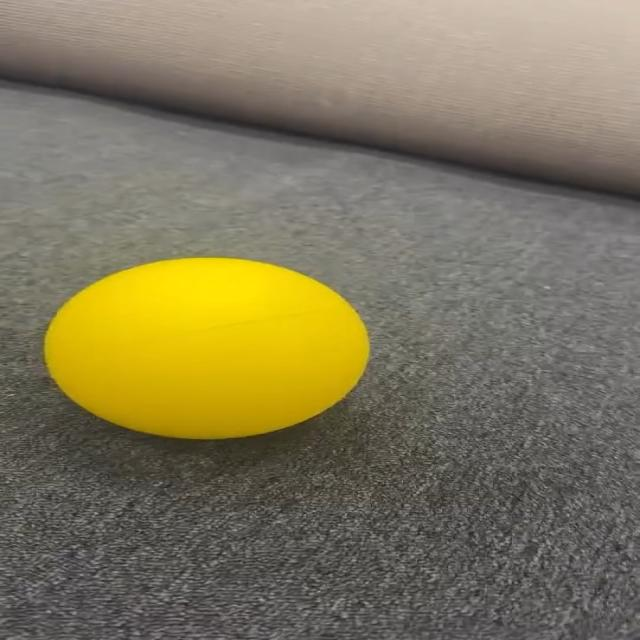Fuels: (46, 258, 368, 437)
